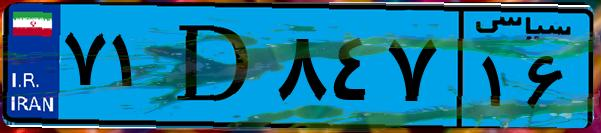1: (475, 38, 525, 113), (110, 28, 158, 98)
4: (330, 28, 385, 110)
6: (525, 38, 570, 115)
7: (385, 28, 445, 110), (57, 26, 110, 100)
8: (270, 28, 330, 110)
D: (158, 12, 270, 120)
